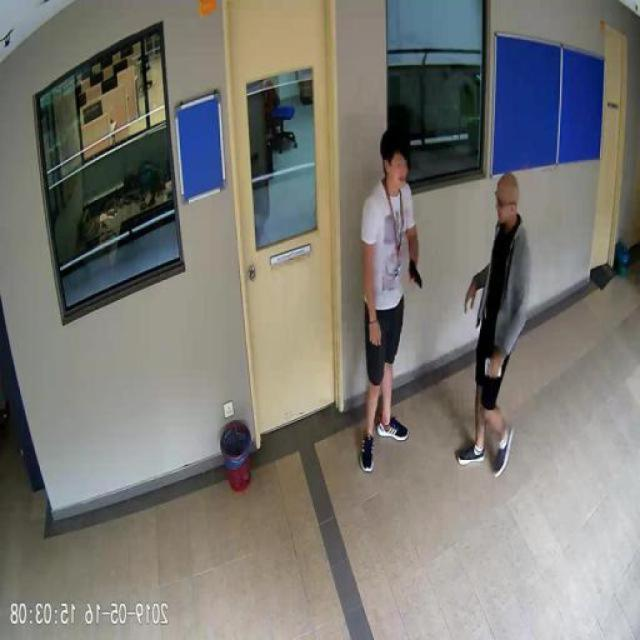pistol: (410, 257, 424, 288)
